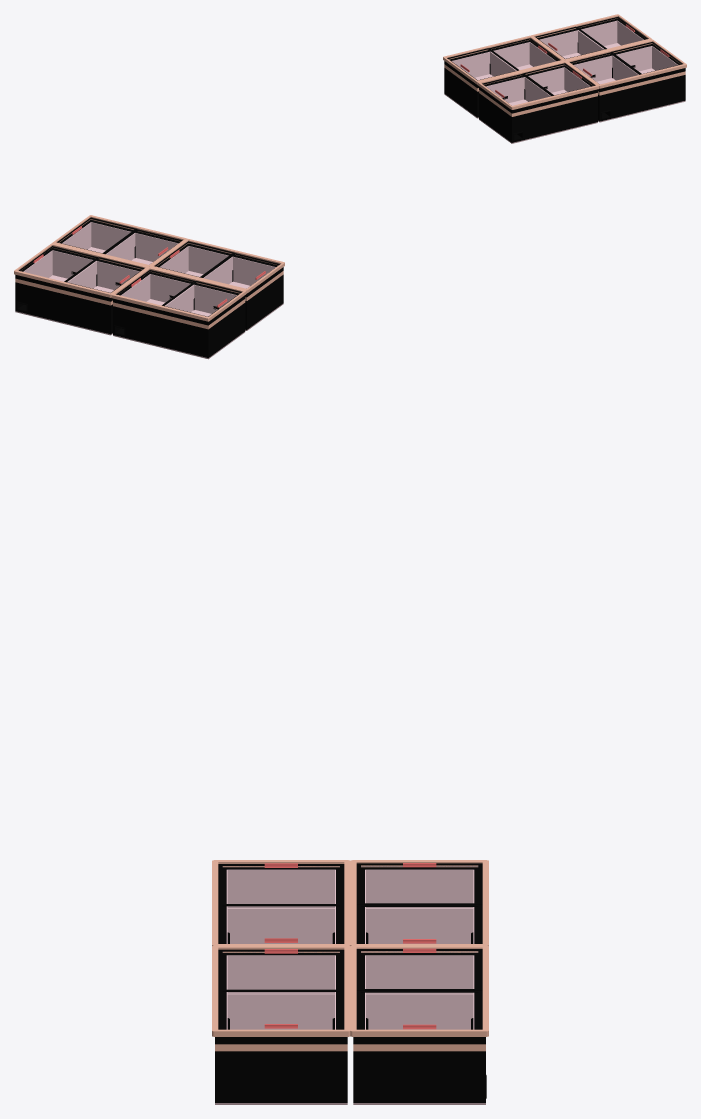
File: freezer.glb
The picture shows the model from 3 angles, top to bottom: view 1: azimuth 30°, elevation 25°; view 2: azimuth 150°, elevation 25°; view 3: azimuth 270°, elevation 25°; orthographic projection. The views are drawn at different scales.
Visible parts, largest first — view 1: Freezer; view 2: Freezer; view 3: Freezer.
Boxes of the visible parts, left/top/right/bottom form: Freezer: left=443, top=14, right=686, bottom=143; Freezer: left=14, top=215, right=284, bottom=359; Freezer: left=212, top=860, right=488, bottom=1104.
Bounding box in the file's own units: 42.19 × 2.55 × 8.36.
